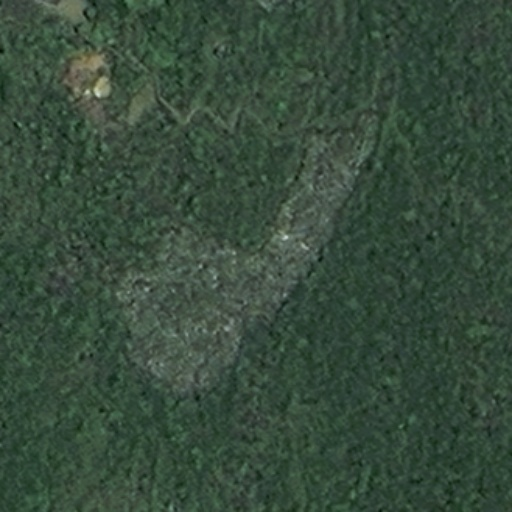landslide: (119, 125, 376, 379), (68, 53, 112, 104)
